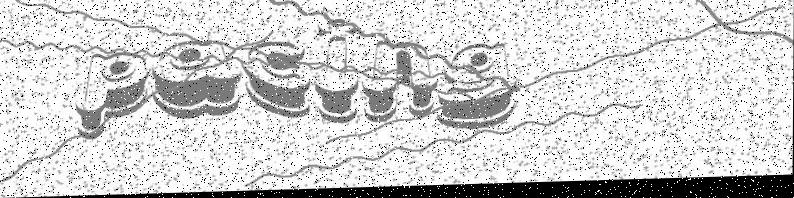a: (151, 38, 242, 121)
c: (242, 41, 314, 122)
g: (437, 44, 518, 134)
i: (313, 19, 361, 127)
n: (361, 41, 436, 125)
p: (73, 52, 150, 142)
